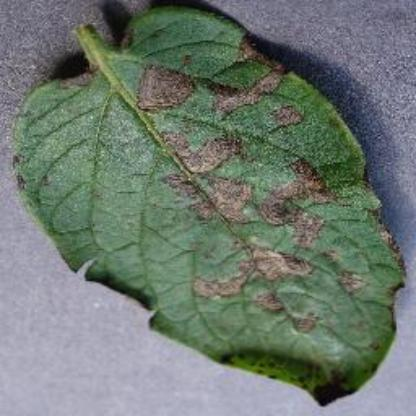Early-Blight: (10, 7, 410, 405)
